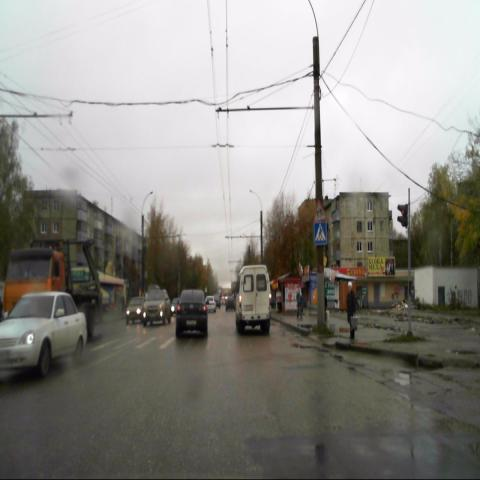1_23: (312, 199, 328, 224)
5_19_1: (313, 221, 327, 245)
